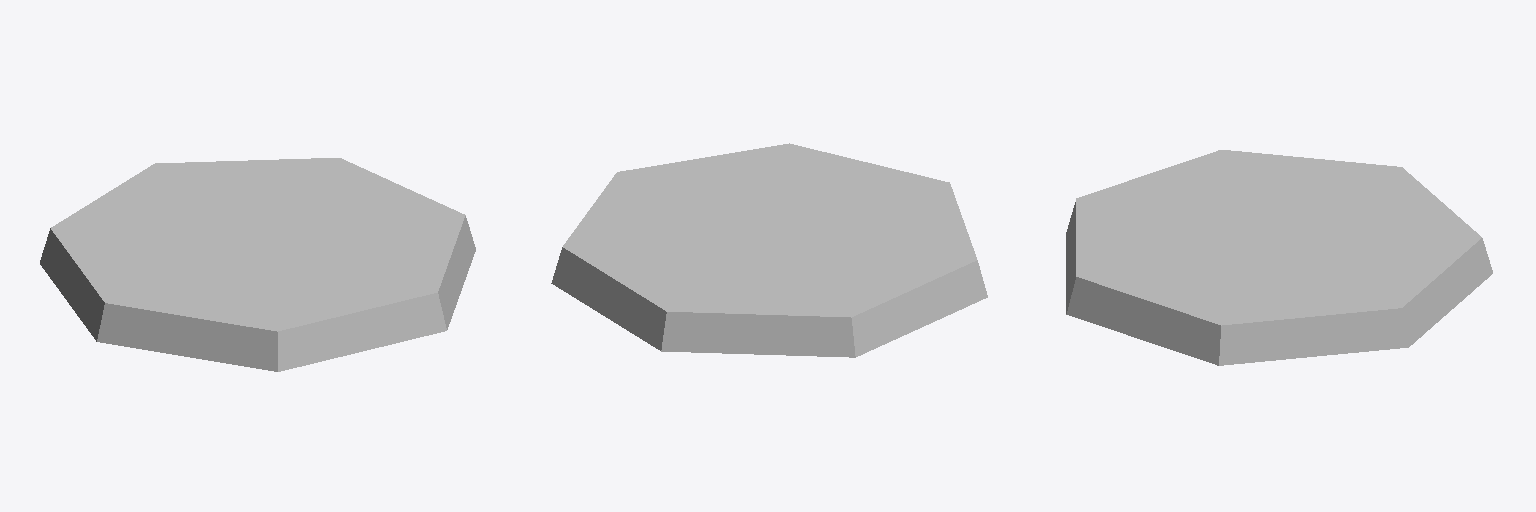
File: trash_bucket_hat1.obj
3 renders of one model, left to right at view 1: azimuth 30°, elevation 25°; view 2: azimuth 150°, elevation 25°; view 3: azimuth 270°, elevation 25°, orthographic.
Parts seen in each view (by area): view 1: trash_bin_header; view 2: trash_bin_header; view 3: trash_bin_header.
Boxes of the visible parts, x1=… form: trash_bin_header: x1=40, y1=158, x2=475, y2=371; trash_bin_header: x1=551, y1=143, x2=987, y2=357; trash_bin_header: x1=1066, y1=150, x2=1492, y2=365.
Size of the model in its own units: 0.3076 by 0.0286 by 0.2999.